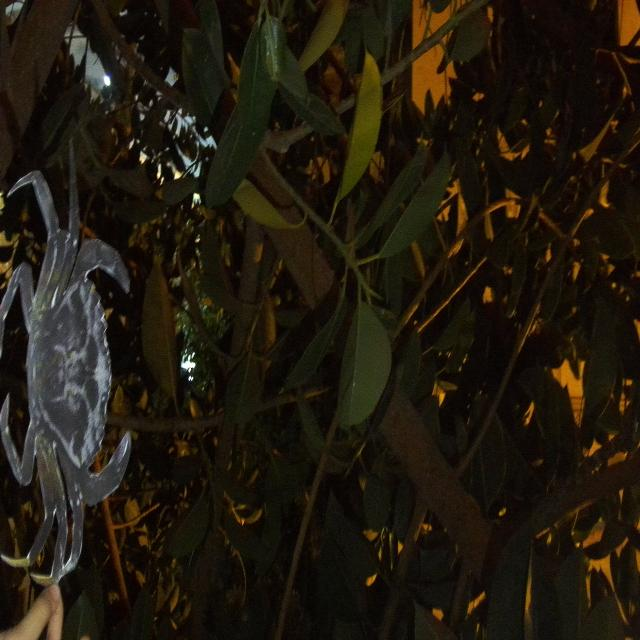European_Green_Crab: (0, 168, 131, 586)
